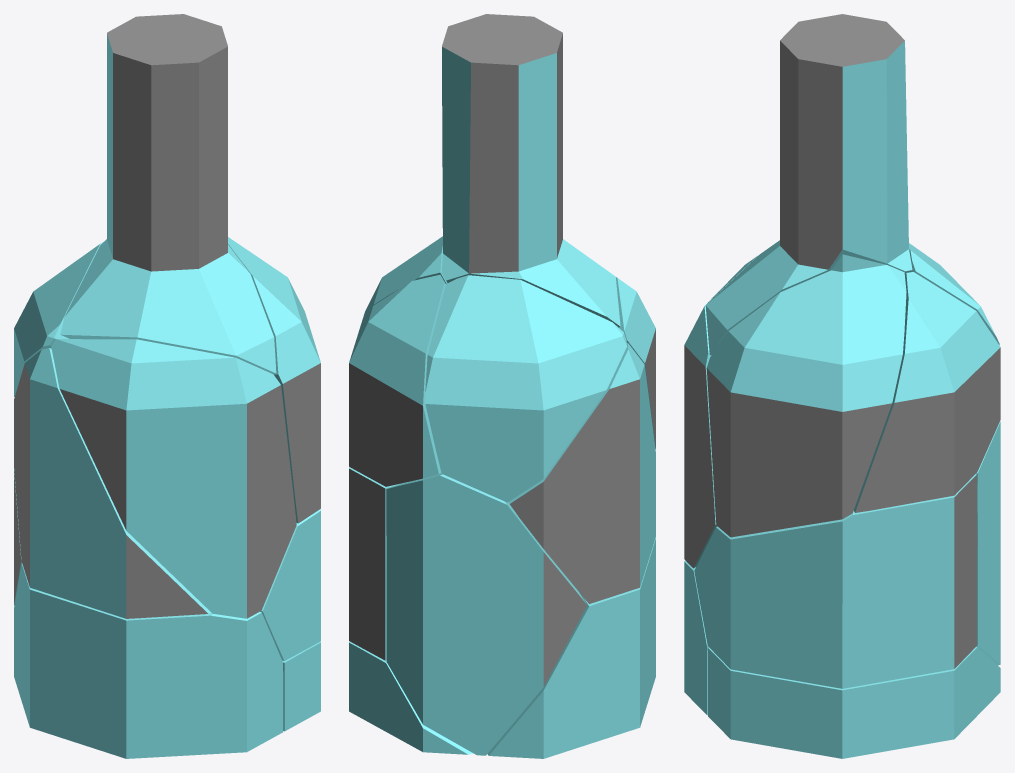
Rendered from pandemonium_vodka_bottle_fractured.fbx.
The picture shows the model from 3 angles, left to right: view 1: azimuth 30°, elevation 25°; view 2: azimuth 150°, elevation 25°; view 3: azimuth 270°, elevation 25°; orthographic projection.
Parts seen in each view (by area): view 1: Cylinder.007_cell.001, Cylinder.007_cell.008, Cylinder.007_cell.002, Cylinder.007_cell.006, Cylinder.007_cell.004, Cylinder.007_cell.007, Cylinder.007_cell.009, Cylinder.007_cell, Cylinder.007_cell.003; view 2: Cylinder.007_cell.003, Cylinder.007_cell.001, Cylinder.007_cell.009, Cylinder.007_cell.006, Cylinder.007_cell.002, Cylinder.007_cell.005, Cylinder.007_cell.007, Cylinder.007_cell, Cylinder.007_cell.008, Cylinder.007_cell.004; view 3: Cylinder.007_cell.007, Cylinder.007_cell.004, Cylinder.007_cell.001, Cylinder.007_cell.005, Cylinder.007_cell, Cylinder.007_cell.008, Cylinder.007_cell.003, Cylinder.007_cell.002, Cylinder.007_cell.009.
Part boxes in pixels (x1,y1,x2,y2): Cylinder.007_cell.001: (60,14,276,373); Cylinder.007_cell.008: (51,339,296,618); Cylinder.007_cell.002: (14,563,283,758); Cylinder.007_cell.006: (14,348,210,618); Cylinder.007_cell.004: (228,237,320,523); Cylinder.007_cell.007: (260,509,320,660); Cylinder.007_cell.009: (14,242,103,396); Cylinder.007_cell: (282,641,320,731); Cylinder.007_cell.003: (14,469,21,605); Cylinder.007_cell.003: (386,473,587,755); Cylinder.007_cell.001: (441,14,620,327); Cylinder.007_cell.009: (425,275,626,502); Cylinder.007_cell.006: (508,342,655,603); Cylinder.007_cell.002: (487,538,655,758); Cylinder.007_cell.005: (349,275,445,486); Cylinder.007_cell.007: (349,467,407,660); Cylinder.007_cell: (349,641,472,754); Cylinder.007_cell.008: (616,277,655,448); Cylinder.007_cell.004: (358,236,447,333); Cylinder.007_cell.007: (694,474,977,688); Cylinder.007_cell.004: (706,254,906,537); Cylinder.007_cell.001: (705,14,912,355); Cylinder.007_cell.005: (854,272,1000,512); Cylinder.007_cell: (707,647,1000,758); Cylinder.007_cell.008: (684,255,758,568); Cylinder.007_cell.003: (976,421,1000,665); Cylinder.007_cell.002: (684,560,708,715); Cylinder.007_cell.009: (909,243,999,344).
Size of the model in its own units: 27.13 by 61.65 by 27.13.
